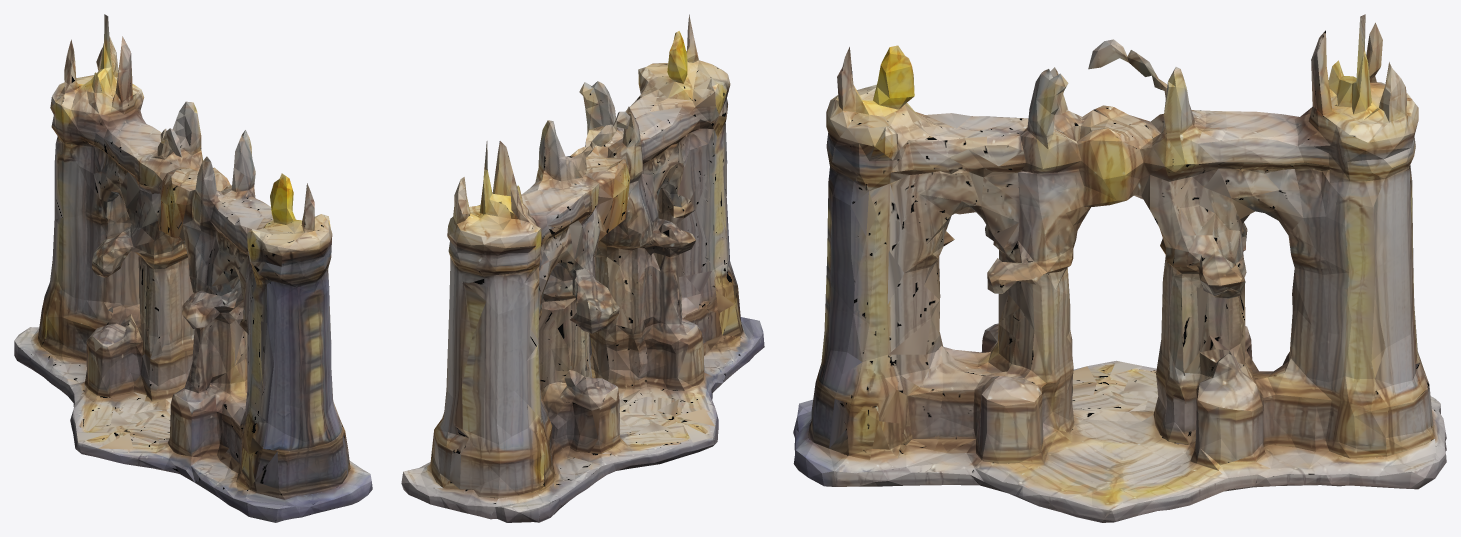
File: wall_3.glb
3 views of the same model, side by side, from view 1: azimuth 30°, elevation 25°; view 2: azimuth 150°, elevation 25°; view 3: azimuth 270°, elevation 25° (orthographic). The views are drawn at different scales.
Visible parts, largest first — view 1: zzzz27; view 2: zzzz27; view 3: zzzz27.
Part boxes in pixels (left/top/right/bottom): zzzz27: left=14, top=14, right=372, bottom=522; zzzz27: left=401, top=14, right=764, bottom=522; zzzz27: left=793, top=14, right=1446, bottom=522.
Bounding box in the file's own units: 2.78 × 3.74 × 5.03.
1 material, 1 textured.
